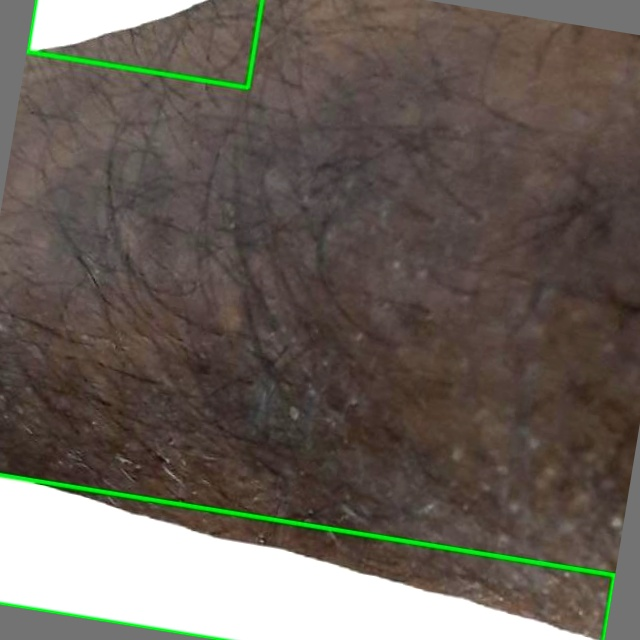Contact Dermatitis: (0, 475, 614, 639), (27, 0, 262, 87)
